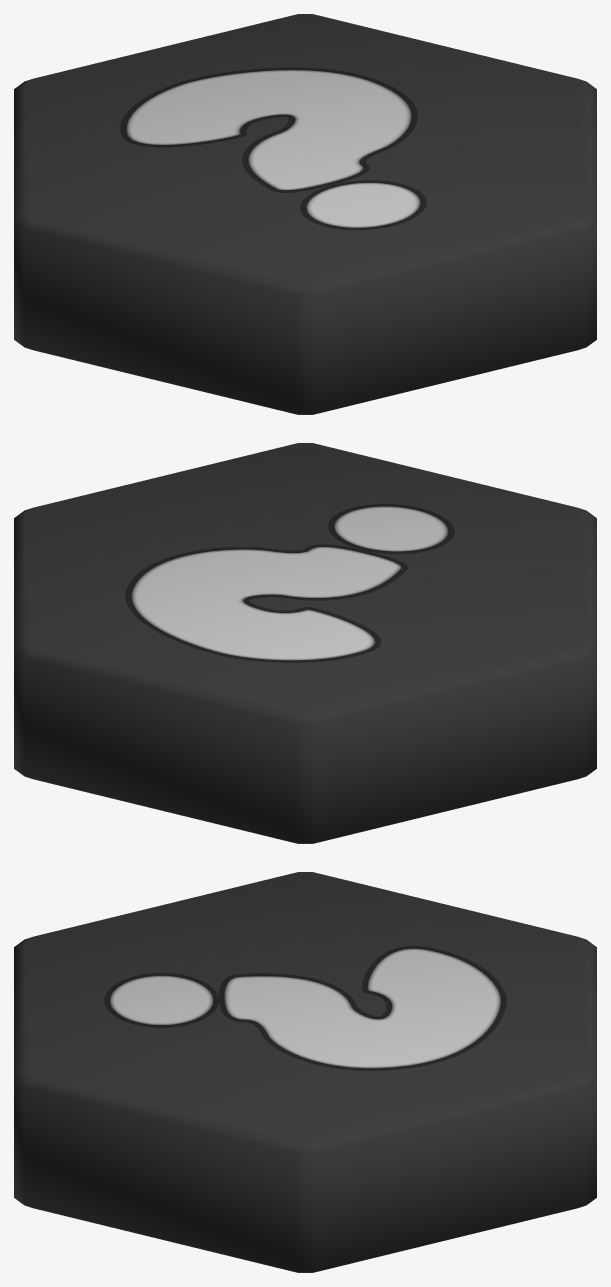
File: hexa 1.fbx
The picture shows the model from 3 angles, top to bottom: view 1: azimuth 30°, elevation 25°; view 2: azimuth 150°, elevation 25°; view 3: azimuth 270°, elevation 25°; orthographic projection.
Parts seen in each view (by area): view 1: hexa; view 2: hexa; view 3: hexa.
Boxes of the visible parts, bbox=[...] form: hexa: bbox=[14, 14, 596, 414]; hexa: bbox=[14, 443, 596, 843]; hexa: bbox=[14, 872, 596, 1272].
Size of the model in its own units: 92.79 by 20.2 by 81.82.
